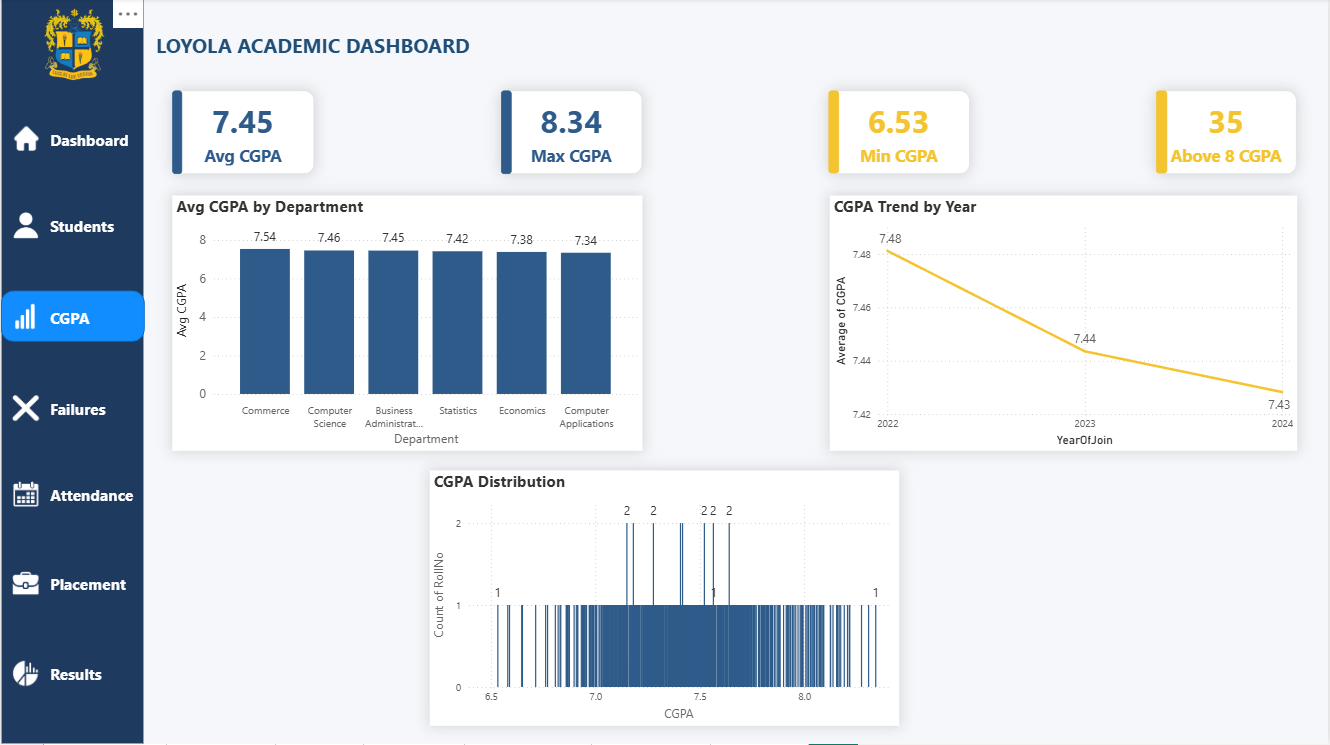

What the dashboard file says about the page in this screenshot:
{"tool":"powerbi","page":{"name":"CGPA","canvas":[1600,900],"ordinal":2},"visuals":[{"type":"shape","box":[0,0,171.9,900.3],"z":0},{"type":"textbox","box":[173.4,36.2,405.7,64.8],"z":1000},{"type":"image","box":[12.9,257.2,33.2,33.2],"z":1000,"group":"g5"},{"type":"image","box":[39.2,9,98,95],"z":2000},{"type":"card","fields":{"Values":["students.Avg CGPA"]},"box":[206.6,111.6,171.3,101],"z":3000,"group":"g1"},{"type":"card","fields":{"Values":["students.Above 8 CGPA"]},"box":[1393.4,111.6,169.5,101],"z":3000,"group":"g9"},{"type":"card","fields":{"Values":["students.Min CGPA"]},"box":[998.3,111.6,170.2,101],"z":4000,"group":"g3"},{"type":"image","box":[12.9,367.3,33.2,33.2],"z":4000,"group":"g7"},{"type":"card","fields":{"Values":["students.Max CGPA"]},"box":[602.8,111.7,170.2,101],"z":5000,"group":"g2"},{"type":"image","box":[12.9,477.4,33.2,33.2],"z":6000,"group":"g6"},{"type":"columnChart","title":"CGPA Distribution","fields":{"Category":["students.CGPA"],"Y":["CountNonNull(students.RollNo)"]},"box":[516.7,570,566.7,308.3],"z":6000},{"type":"lineChart","title":"CGPA Trend by Year","fields":{"Category":["students.YearOfJoin"],"Y":["Avg(students.CGPA)"]},"box":[999.8,238.3,564,307.6],"z":7000},{"type":"columnChart","title":"Avg CGPA by Department","fields":{"Category":["students.Department"],"Y":["students.Avg CGPA"]},"box":[206.6,238.3,567,307.6],"z":8000},{"type":"image","box":[12.9,583,33.2,33.2],"z":8000,"group":"g8"},{"type":"group","id":"g1","title":"Group 1","box":[206.6,111.6,171.3,101.1],"z":10000},{"type":"image","box":[12.9,688.5,33.2,33.2],"z":10000,"group":"g10"},{"type":"group","id":"g2","title":"Group 2","box":[602.8,111.4,170.2,101.2],"z":11000},{"type":"group","id":"g3","title":"Group 3","box":[998,111.6,170.5,101],"z":12000},{"type":"image","box":[12.9,797.1,33.2,33.2],"z":12000,"group":"g11"},{"type":"group","id":"g4","title":"Group 4","box":[1393.4,111.6,170.4,101],"z":13000},{"type":"group","id":"g5","title":"Group 8","box":[12.9,257.2,136.1,40.2],"z":14000},{"type":"shape","title":"Shape1","box":[0,352.9,173.4,61.8],"z":14000,"group":"g13"},{"type":"image","title":"Home","box":[12.9,153.2,33.2,31.7],"z":15000,"group":"g12"},{"type":"group","id":"g6","title":"Group 10","box":[12.9,477.4,136.1,40.1],"z":15000},{"type":"shape","box":[998,111.8,12.7,100],"z":16000,"group":"g3"},{"type":"group","id":"g7","title":"Group 9","box":[12.9,367.3,101.8,40.2],"z":16000,"group":"g13"},{"type":"group","id":"g8","title":"Group 11","box":[12.9,582.5,160.2,39.7],"z":16000},{"type":"group","id":"g9","title":"Group 5","box":[1393.4,111.6,169.5,101],"z":16001,"group":"g4"},{"type":"shape","box":[206.8,111.8,12.4,101],"z":17000,"group":"g1"},{"type":"shape","box":[1393.7,112,13.6,100],"z":17000,"group":"g9"},{"type":"group","id":"g10","title":"Group 12","box":[12.9,688.5,150.5,40],"z":17000},{"type":"shape","box":[602.9,111.4,12.5,100.8],"z":18000,"group":"g2"},{"type":"group","id":"g11","title":"Group 13","box":[12.9,797,114.4,39.7],"z":18000},{"type":"group","id":"g12","title":"Group 6","box":[12.9,153.2,148.7,39.7],"z":19000},{"type":"group","id":"g13","title":"Group 7","box":[0,352.9,173.4,61.8],"z":20000},{"type":"textbox","box":[53.4,153.2,108.2,39.7],"z":24000,"group":"g12"},{"type":"textbox","box":[53.4,257.8,95.6,39.7],"z":25000,"group":"g5"},{"type":"textbox","box":[53.4,367.8,61.3,39.7],"z":26000,"group":"g7"},{"type":"textbox","box":[53.4,477.8,95.6,39.7],"z":27000,"group":"g6"},{"type":"textbox","box":[54.1,582.5,119,39.7],"z":28000,"group":"g8"},{"type":"textbox","box":[53.4,688.8,110,39.7],"z":29000,"group":"g10"},{"type":"textbox","box":[53.4,797,73.9,39.7],"z":30000,"group":"g11"}]}

Visuals, with their boxes on the page's 1600x900 design canvas (x1, y1, x2, y2). These are canvas units, not pixel positions in the 1330x745 screenshot, which may show the page scaled, cropped or inside an application window:
shape: {"left": 0, "top": 0, "right": 172, "bottom": 900}
textbox: {"left": 173, "top": 36, "right": 579, "bottom": 101}
image: {"left": 13, "top": 257, "right": 46, "bottom": 290}
image: {"left": 39, "top": 9, "right": 137, "bottom": 104}
card - students.Avg CGPA: {"left": 207, "top": 112, "right": 378, "bottom": 213}
card - students.Above 8 CGPA: {"left": 1393, "top": 112, "right": 1563, "bottom": 213}
card - students.Min CGPA: {"left": 998, "top": 112, "right": 1168, "bottom": 213}
image: {"left": 13, "top": 367, "right": 46, "bottom": 400}
card - students.Max CGPA: {"left": 603, "top": 112, "right": 773, "bottom": 213}
image: {"left": 13, "top": 477, "right": 46, "bottom": 511}
"CGPA Distribution" columnChart: {"left": 517, "top": 570, "right": 1083, "bottom": 878}
"CGPA Trend by Year" lineChart: {"left": 1000, "top": 238, "right": 1564, "bottom": 546}
"Avg CGPA by Department" columnChart: {"left": 207, "top": 238, "right": 774, "bottom": 546}
image: {"left": 13, "top": 583, "right": 46, "bottom": 616}
"Group 1" group: {"left": 207, "top": 112, "right": 378, "bottom": 213}
image: {"left": 13, "top": 688, "right": 46, "bottom": 722}
"Group 2" group: {"left": 603, "top": 111, "right": 773, "bottom": 213}
"Group 3" group: {"left": 998, "top": 112, "right": 1168, "bottom": 213}
image: {"left": 13, "top": 797, "right": 46, "bottom": 830}
"Group 4" group: {"left": 1393, "top": 112, "right": 1564, "bottom": 213}
"Group 8" group: {"left": 13, "top": 257, "right": 149, "bottom": 297}
"Shape1" shape: {"left": 0, "top": 353, "right": 173, "bottom": 415}
"Home" image: {"left": 13, "top": 153, "right": 46, "bottom": 185}
"Group 10" group: {"left": 13, "top": 477, "right": 149, "bottom": 518}
shape: {"left": 998, "top": 112, "right": 1011, "bottom": 212}
"Group 9" group: {"left": 13, "top": 367, "right": 115, "bottom": 408}
"Group 11" group: {"left": 13, "top": 582, "right": 173, "bottom": 622}
"Group 5" group: {"left": 1393, "top": 112, "right": 1563, "bottom": 213}
shape: {"left": 207, "top": 112, "right": 219, "bottom": 213}
shape: {"left": 1394, "top": 112, "right": 1407, "bottom": 212}
"Group 12" group: {"left": 13, "top": 688, "right": 163, "bottom": 728}
shape: {"left": 603, "top": 111, "right": 615, "bottom": 212}
"Group 13" group: {"left": 13, "top": 797, "right": 127, "bottom": 837}
"Group 6" group: {"left": 13, "top": 153, "right": 162, "bottom": 193}
"Group 7" group: {"left": 0, "top": 353, "right": 173, "bottom": 415}
textbox: {"left": 53, "top": 153, "right": 162, "bottom": 193}
textbox: {"left": 53, "top": 258, "right": 149, "bottom": 298}
textbox: {"left": 53, "top": 368, "right": 115, "bottom": 408}
textbox: {"left": 53, "top": 478, "right": 149, "bottom": 518}
textbox: {"left": 54, "top": 582, "right": 173, "bottom": 622}
textbox: {"left": 53, "top": 689, "right": 163, "bottom": 728}
textbox: {"left": 53, "top": 797, "right": 127, "bottom": 837}
